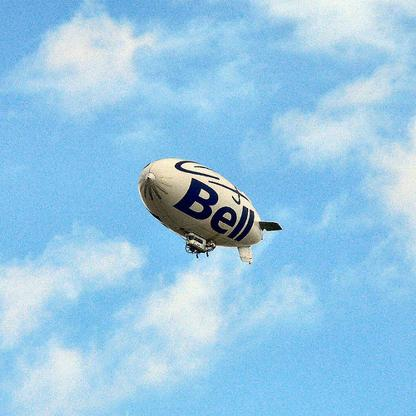Airship: (137, 155, 284, 274)
